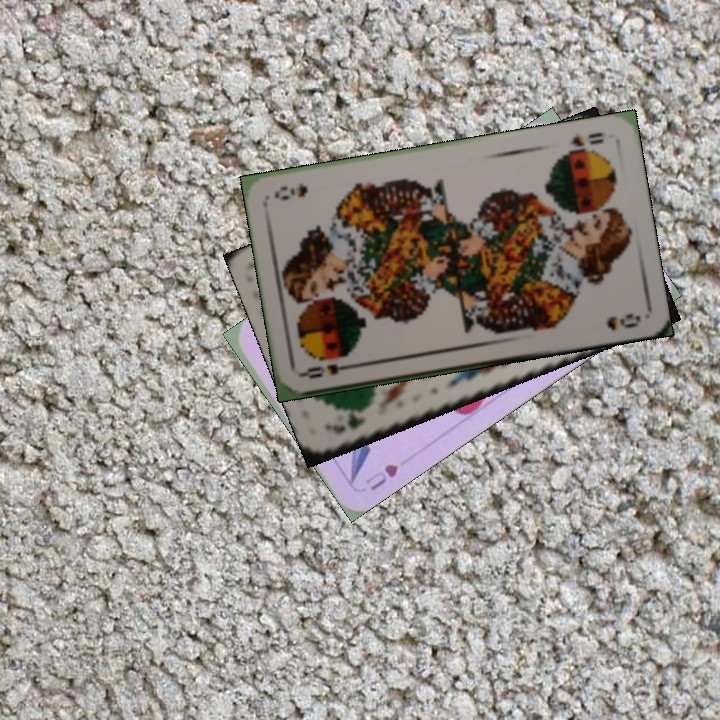GK: (329, 411, 368, 434)
HU: (361, 459, 401, 494)
SO: (299, 359, 358, 381), (563, 128, 606, 156)
